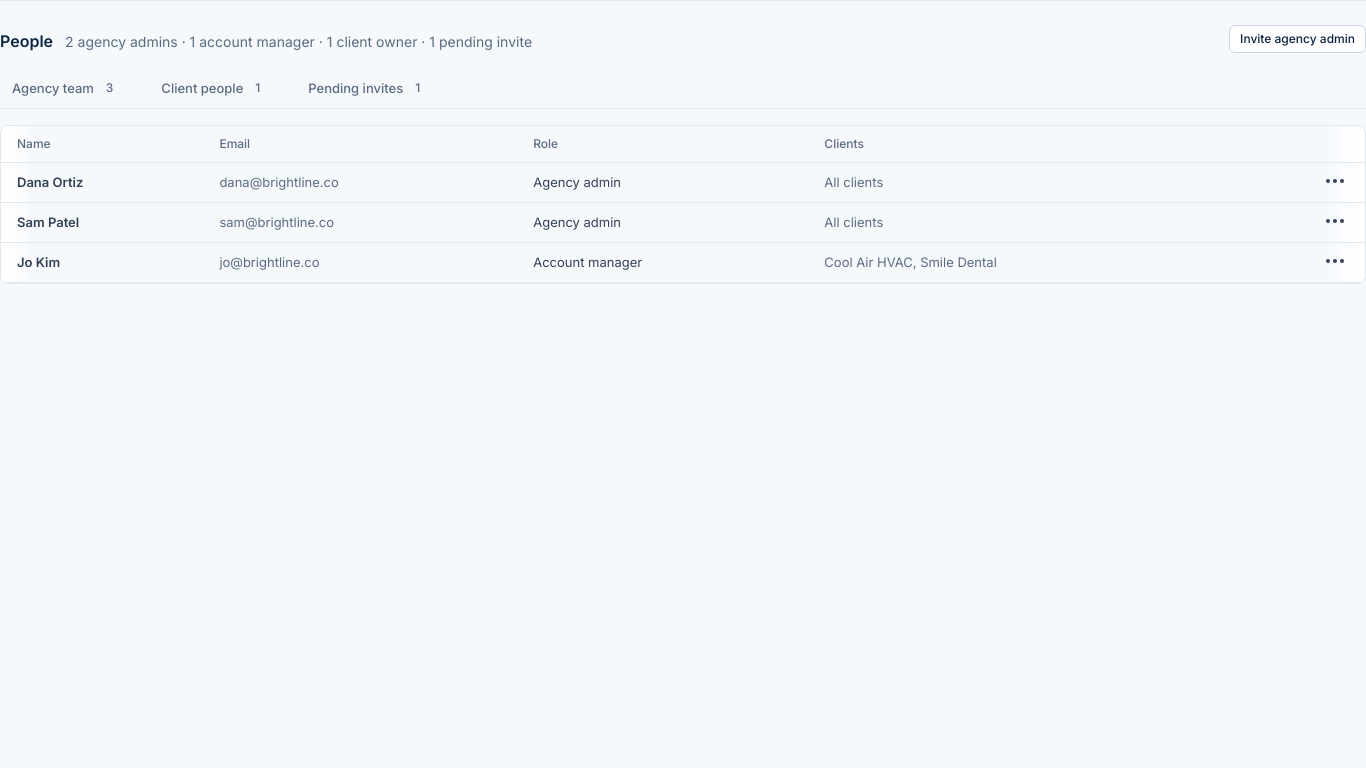
Test: PeopleSection › remove confirms with the agency name, and the result line survives the dialog closing
This screenshot has width=1366, height=768.
Press Enter in the button named "Actions for Jo Kim", box [1321,247,1349,275]
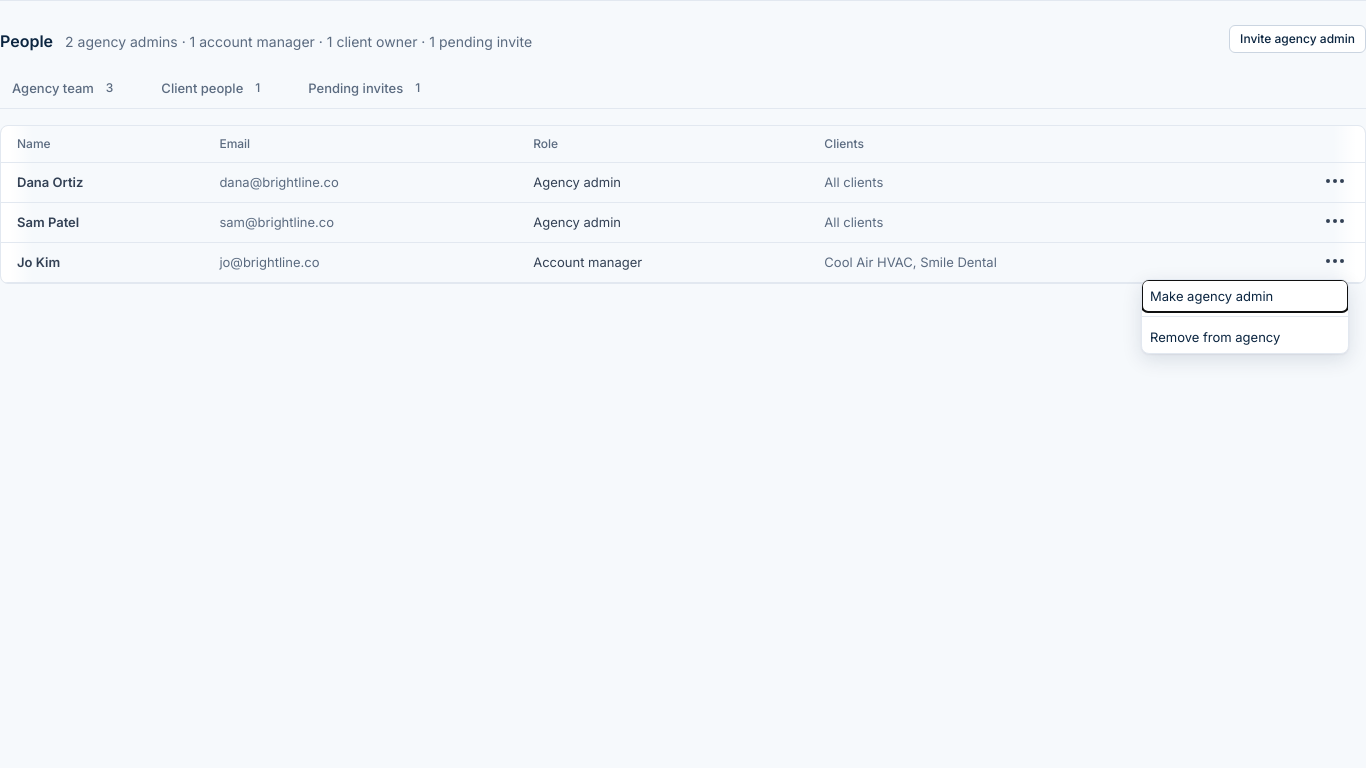
Click the menu item "Remove from agency": (1215, 337) [1150,329,1280,345]
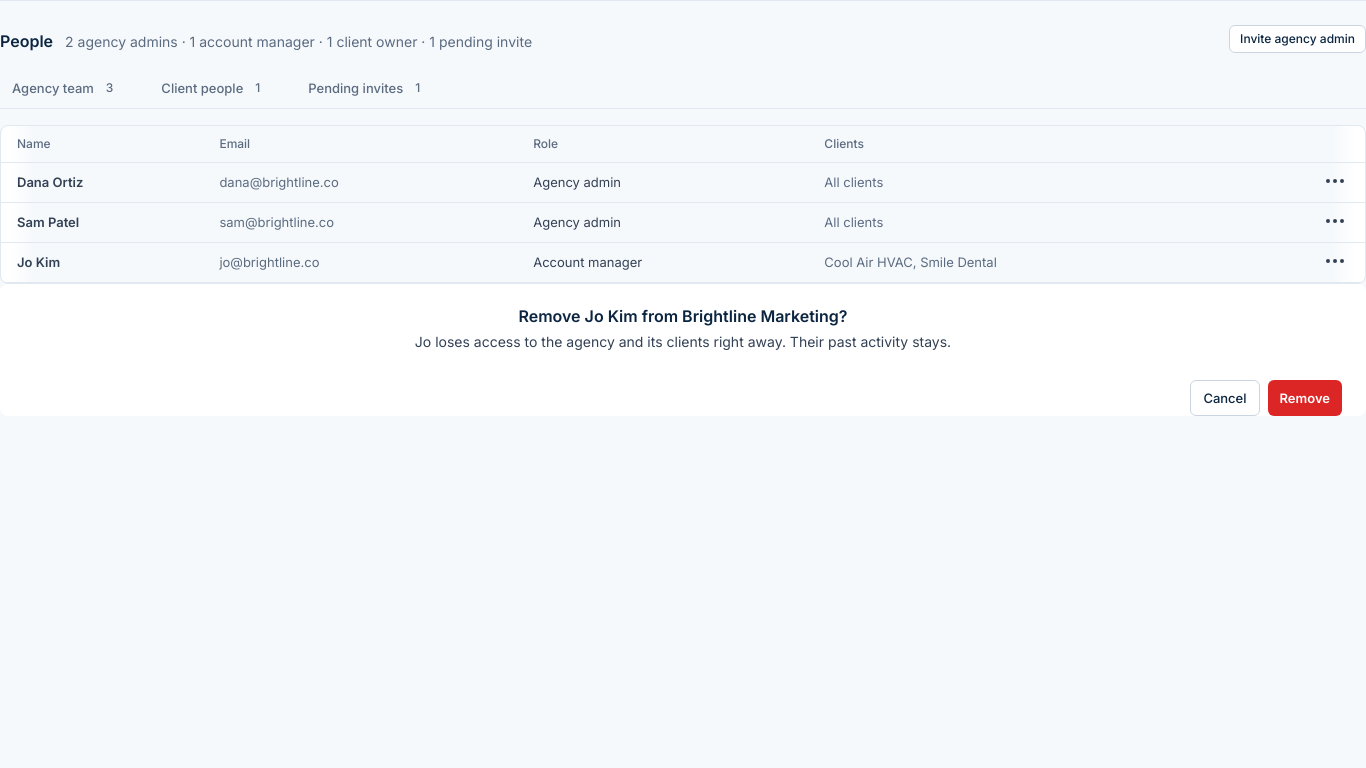
Check: the dialog "Remove Jo Kim from Brightline Marketing?" shows "Jo loses access to the agency and its clients right away. Their past activity stays.", box [415,332,951,350]
Click the button "Remove": (1305, 398) [1268,380,1342,416]
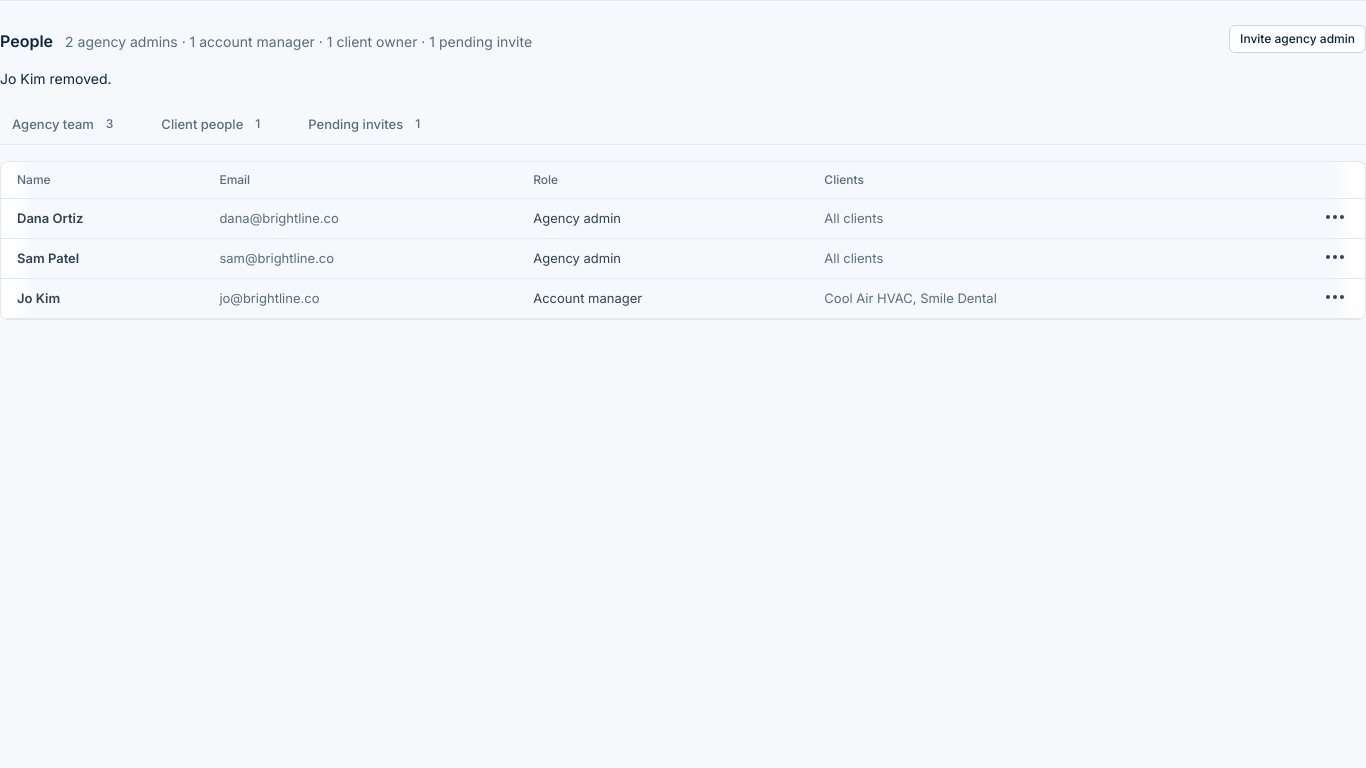
Check: the dialog is gone
Check: the message reads "Jo Kim removed.", box [0,70,112,87]
